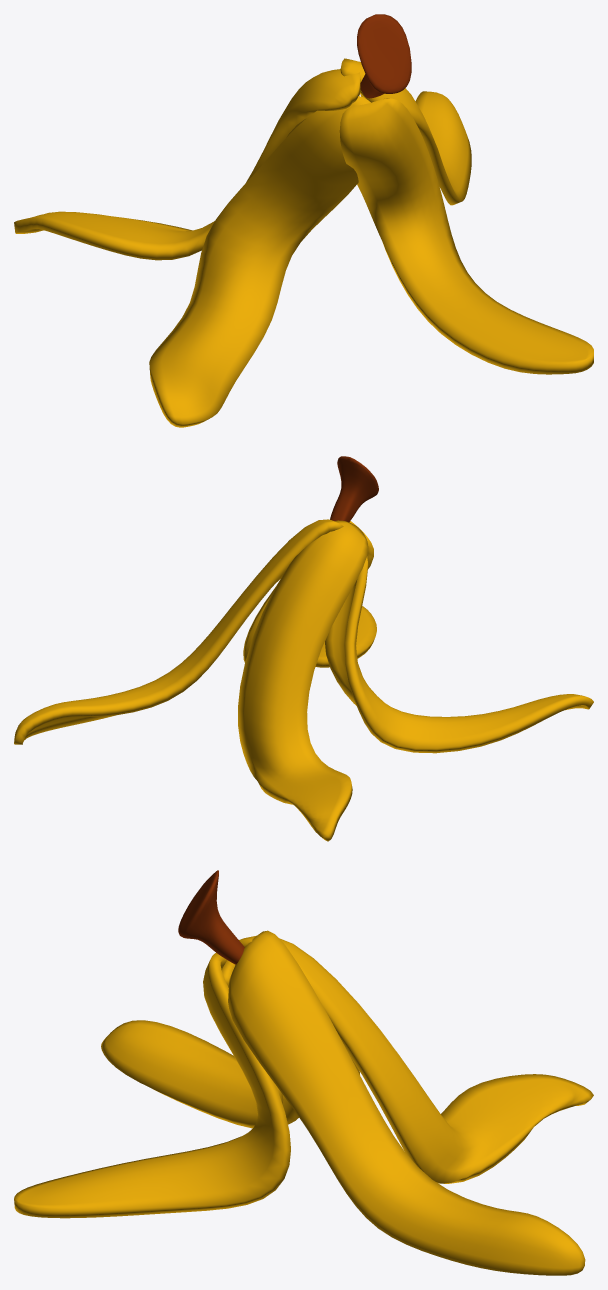
The model's file is BananaPeel.fbx.
3 renders of one model, top to bottom at view 1: azimuth 30°, elevation 25°; view 2: azimuth 150°, elevation 25°; view 3: azimuth 270°, elevation 25°, orthographic. The views are drawn at different scales.
Parts seen in each view (by area): view 1: Cube.002, Cube.001, Cube.004, Cube.003, Cube; view 2: Cube.004, Cube.002, Cube.003, Cube, Cube.001; view 3: Cube.003, Cube.004, Cube.001, Cube.002, Cube.
Part boxes in pixels (box(x1,y1,x2,y2)): Cube.002: box(149, 96, 370, 427); Cube.001: box(339, 98, 593, 374); Cube.004: box(14, 69, 360, 260); Cube.003: box(340, 58, 471, 205); Cube: box(357, 14, 411, 98); Cube.004: box(238, 520, 368, 841); Cube.002: box(325, 556, 593, 753); Cube.003: box(14, 519, 343, 744); Cube: box(330, 456, 378, 522); Cube.001: box(243, 521, 376, 667); Cube.003: box(228, 930, 585, 1275); Cube.004: box(239, 935, 593, 1183); Cube.001: box(14, 953, 290, 1218); Cube.002: box(101, 960, 359, 1128); Cube: box(178, 870, 244, 964).
Size of the model in its own units: 924 by 560 by 937.
